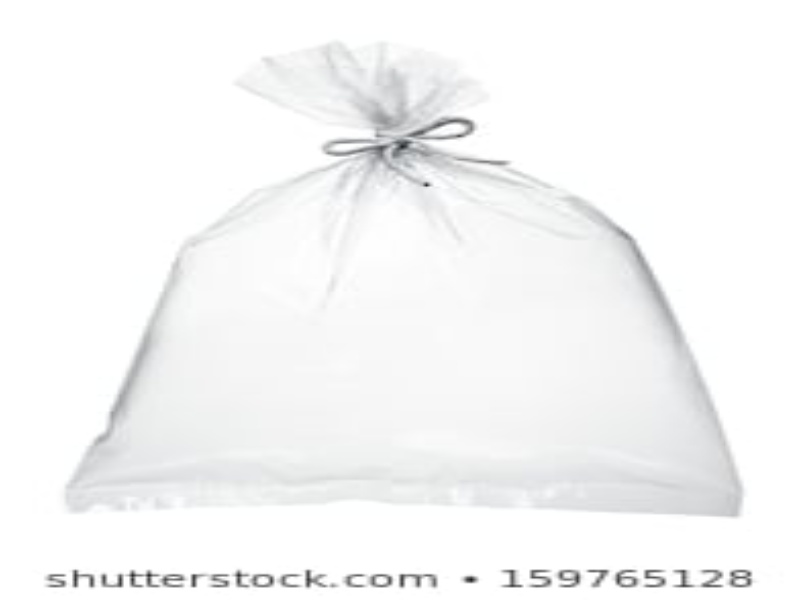plastic-bag: (59, 40, 751, 520)
